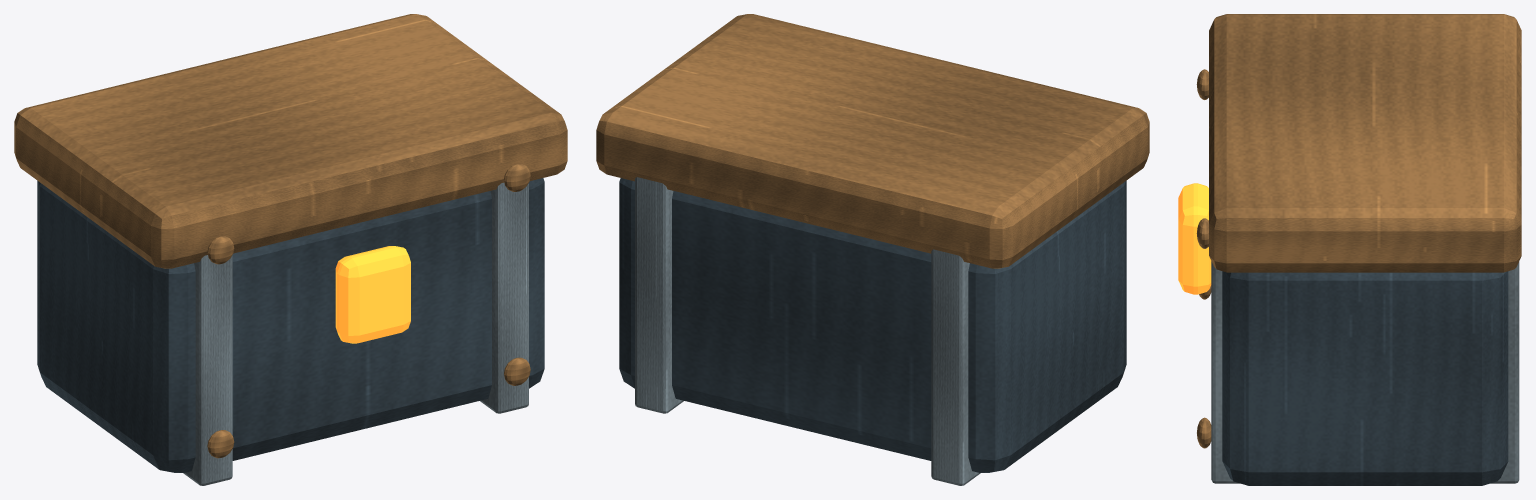
Rendered from loot_chest.glb.
3 views of the same model, side by side, from view 1: azimuth 30°, elevation 25°; view 2: azimuth 150°, elevation 25°; view 3: azimuth 270°, elevation 25° (orthographic). The views are drawn at different scales.
Parts seen in each view (by area): view 1: loot_chest; view 2: loot_chest; view 3: loot_chest.
Part boxes in pixels (left/top/right/bottom): loot_chest: left=14, top=14, right=567, bottom=485; loot_chest: left=596, top=14, right=1149, bottom=485; loot_chest: left=1178, top=14, right=1521, bottom=485.
Bounding box in the file's own units: 1.12 × 0.73 × 0.78.
4 materials, 3 textured.
